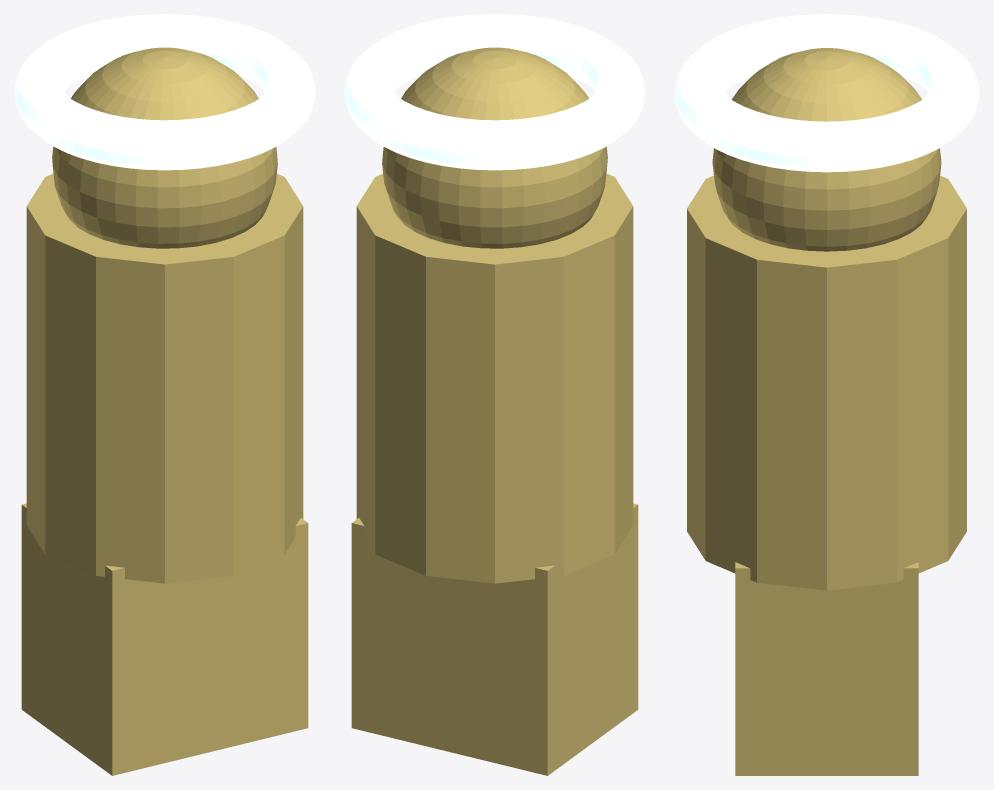
Rendered from TempestSovereignIdol.glb.
3 renders of one model, left to right at view 1: azimuth 30°, elevation 25°; view 2: azimuth 150°, elevation 25°; view 3: azimuth 270°, elevation 25°, orthographic.
Visible parts, largest first — view 1: TempestSovereignIdol; view 2: TempestSovereignIdol; view 3: TempestSovereignIdol.
Boxes of the visible parts, box(x1,y1,x2,y2) form: TempestSovereignIdol: box(14, 14, 315, 775); TempestSovereignIdol: box(344, 14, 645, 775); TempestSovereignIdol: box(674, 14, 979, 775).
Size of the model in its own units: 1.2 by 2.9 by 1.2.
